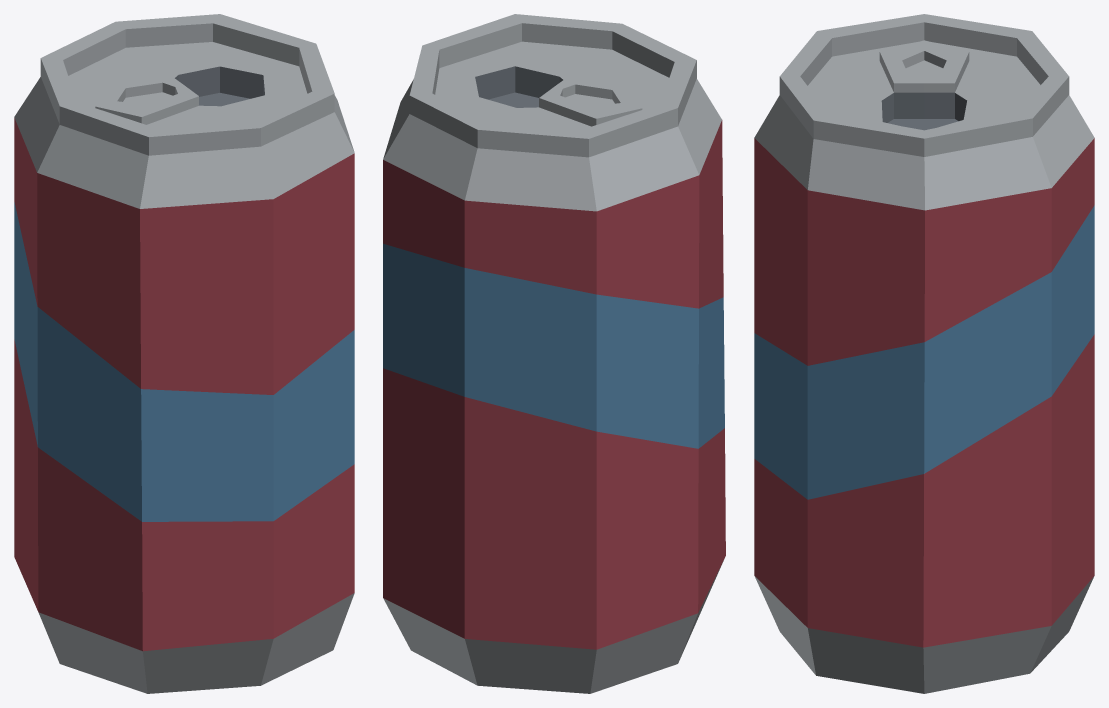
The model's file is Soda_01.FBX.
3 renders of one model, left to right at view 1: azimuth 30°, elevation 25°; view 2: azimuth 150°, elevation 25°; view 3: azimuth 270°, elevation 25°, orthographic.
Parts seen in each view (by area): view 1: Soda_01; view 2: Soda_01; view 3: Soda_01.
Boxes of the visible parts, bbox=[...] form: Soda_01: bbox=[14, 14, 354, 693]; Soda_01: bbox=[383, 14, 725, 693]; Soda_01: bbox=[754, 14, 1094, 693].
Size of the model in its own units: 10.96 by 19.46 by 10.81.
